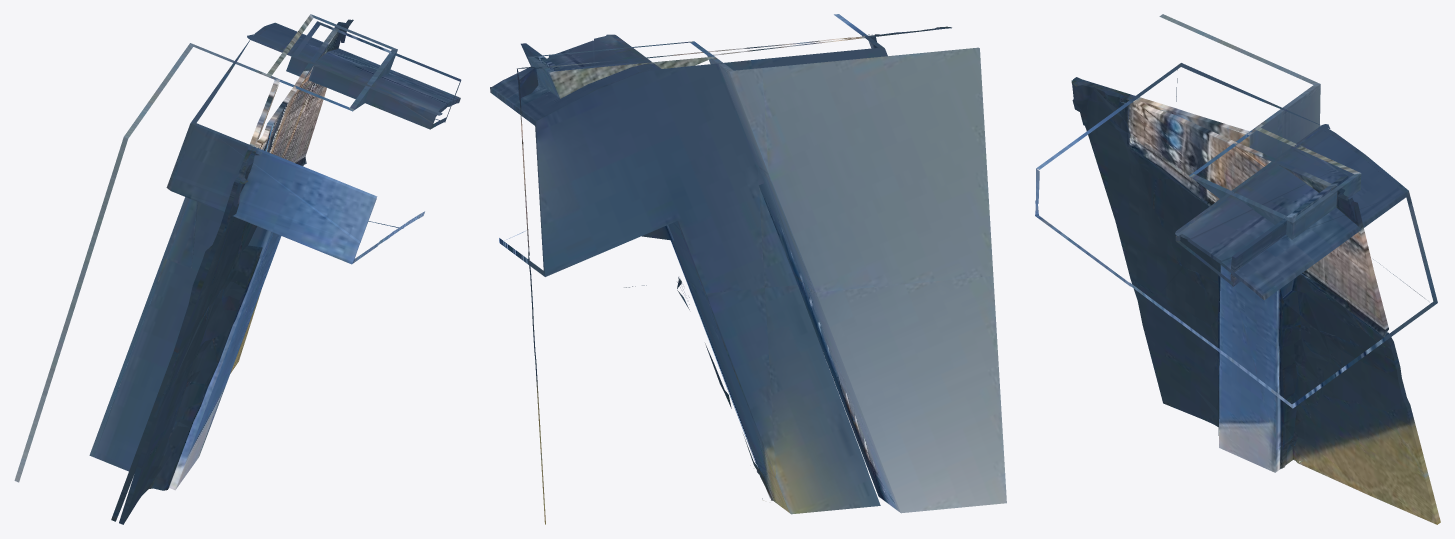
File: congresso_tile_155.glb
3 views of the same model, side by side, from view 1: azimuth 30°, elevation 25°; view 2: azimuth 150°, elevation 25°; view 3: azimuth 270°, elevation 25° (orthographic). The views are drawn at different scales.
Size of the model in its own units: 48.36 by 40.23 by 37.3.
2 materials, 2 textured.
